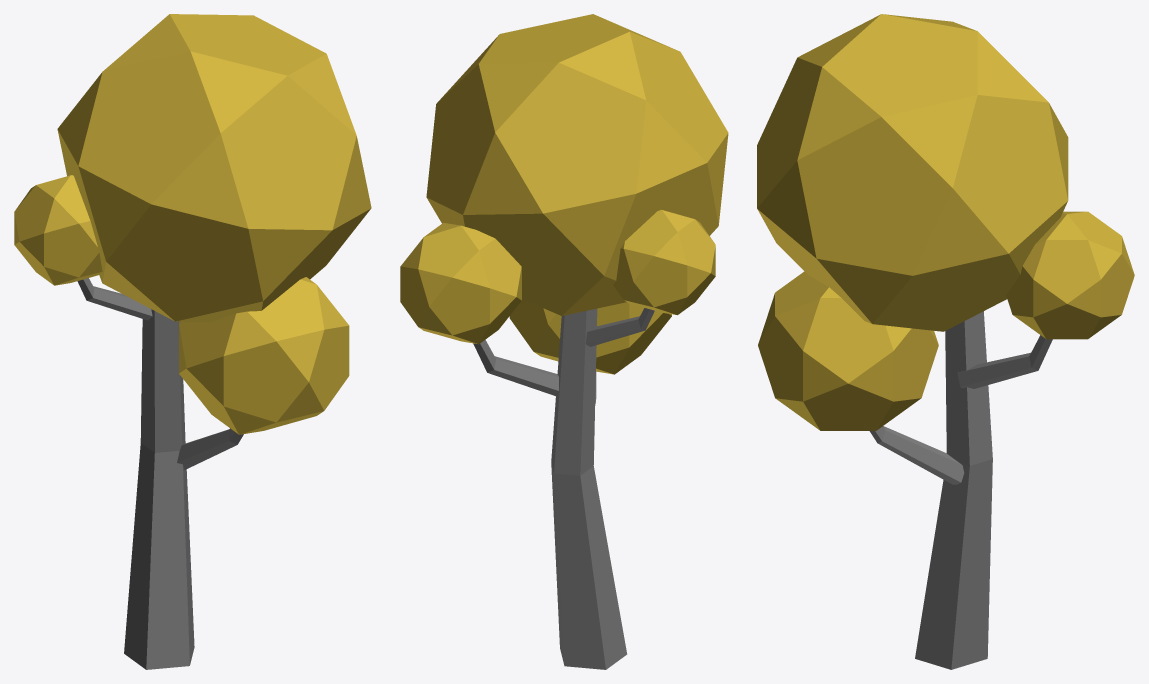
File: Arbre3.3.fbx
3 renders of one model, left to right at view 1: azimuth 30°, elevation 25°; view 2: azimuth 150°, elevation 25°; view 3: azimuth 270°, elevation 25°, orthographic. The views are drawn at different scales.
Visible parts, largest first — view 1: NGon002; view 2: NGon002; view 3: NGon002.
Part boxes in pixels (x1,y1,x2,y2): NGon002: (14,14,371,669); NGon002: (400,14,728,669); NGon002: (757,14,1134,669).
Size of the model in its own units: 46.24 by 91.77 by 49.31.
Materials: 1 (1 with a texture image).
